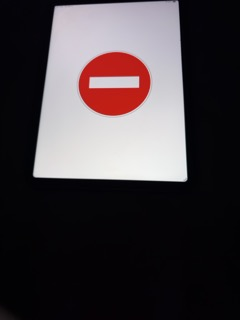NO ENTRY: (77, 51, 152, 117)
